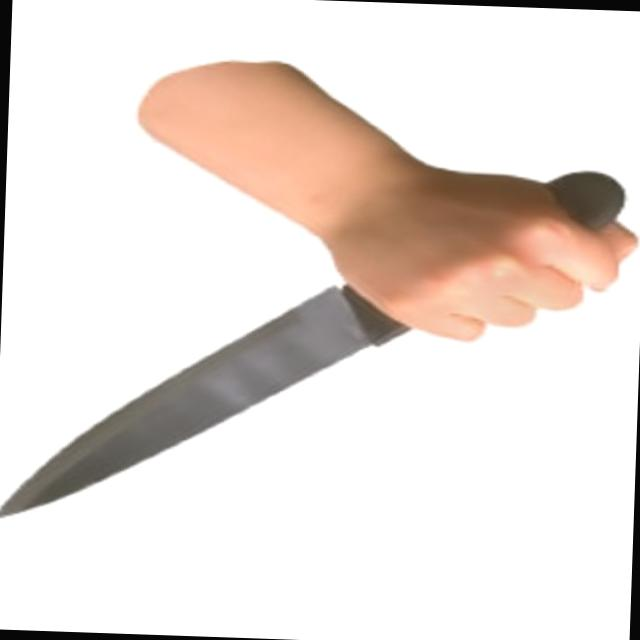knife: (0, 216, 512, 542)
